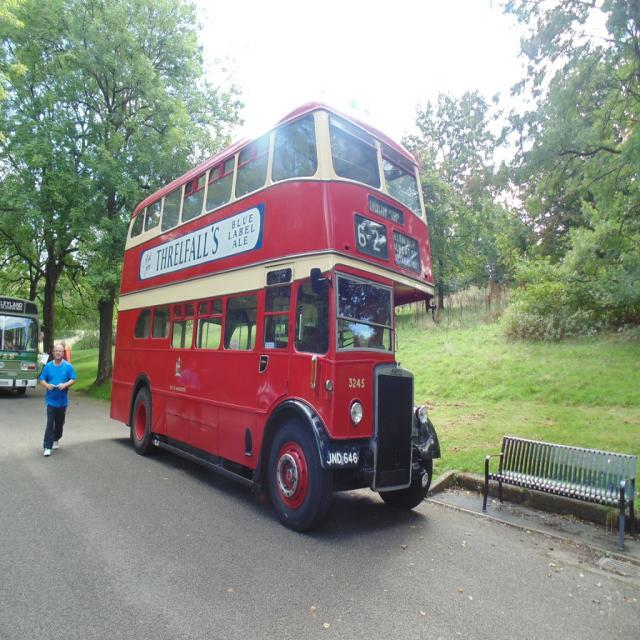motorcycle: (109, 102, 436, 531), (0, 294, 40, 392)
